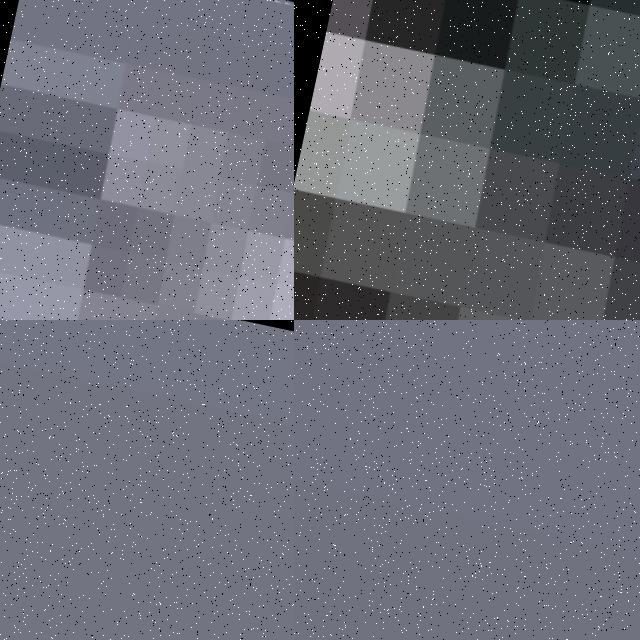drone: (294, 0, 640, 320), (0, 0, 294, 320)
